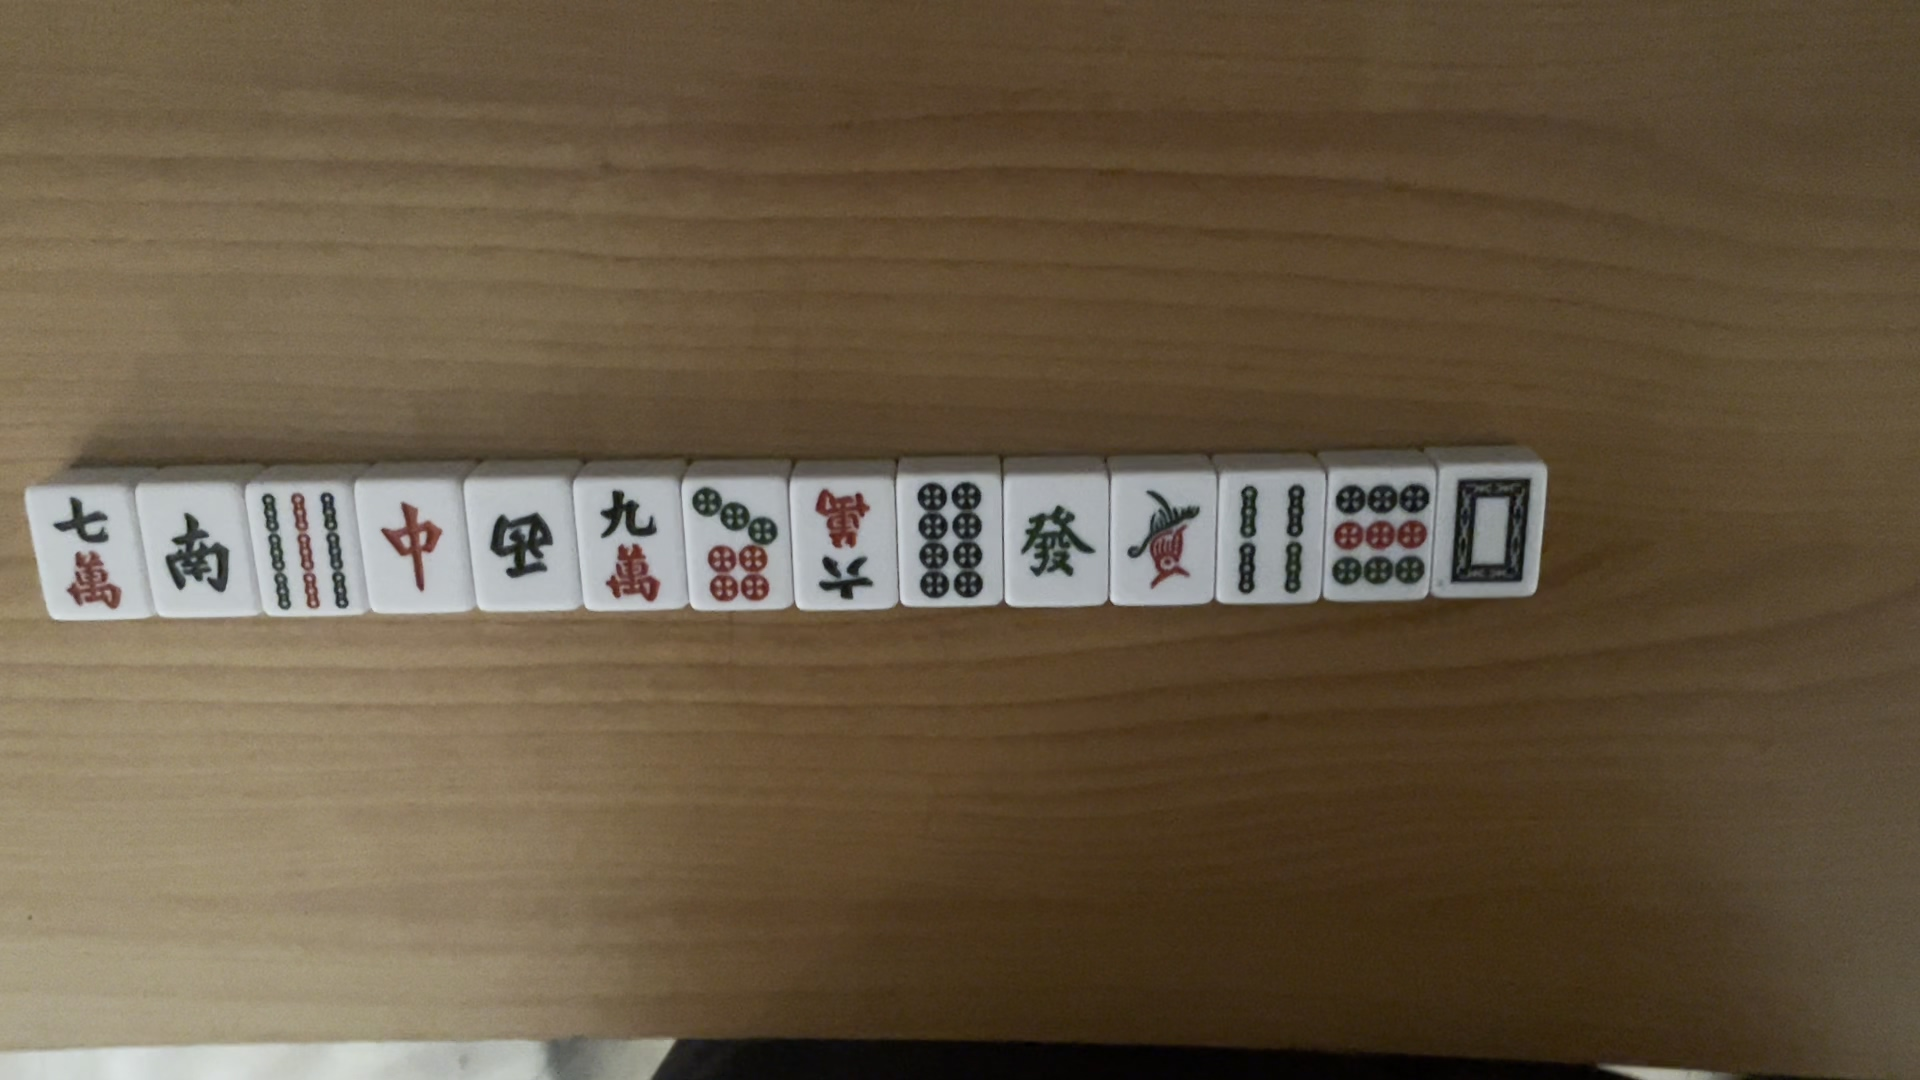b-1: (1122, 479, 1207, 595)
b-4: (1225, 477, 1313, 603)
b-9: (260, 488, 349, 611)
c-6: (807, 475, 884, 609)
c-7: (51, 496, 133, 615)
c-9: (589, 483, 667, 605)
d-7: (687, 485, 781, 605)
d-8: (905, 476, 989, 604)
d-9: (1333, 477, 1428, 603)
honors-green: (1007, 492, 1102, 593)
honors-red: (378, 495, 444, 593)
honors-south: (156, 512, 244, 608)
honors-west: (477, 496, 564, 591)
honors-white: (1448, 467, 1539, 596)
